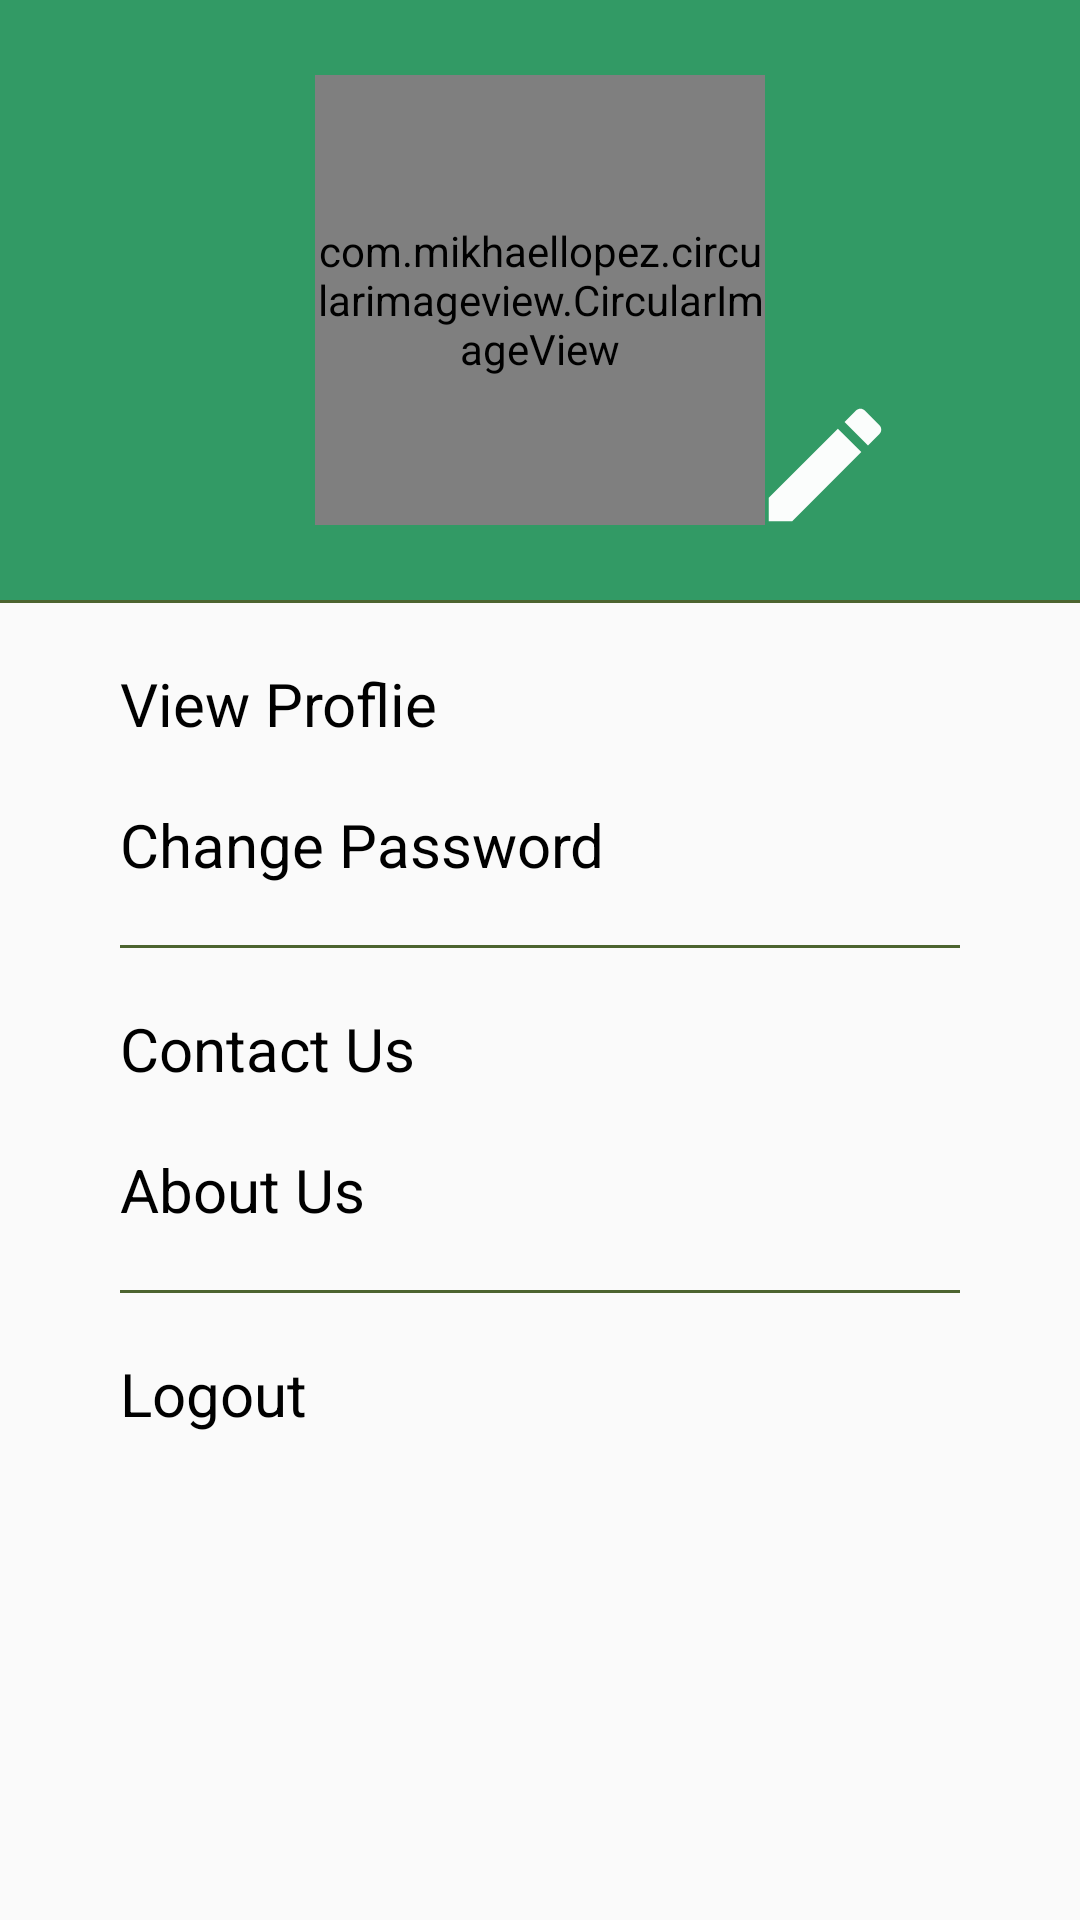

Named icons in this screenshot (1080w x 1920h) and their centers, (x,y):
edit: (825,465)
